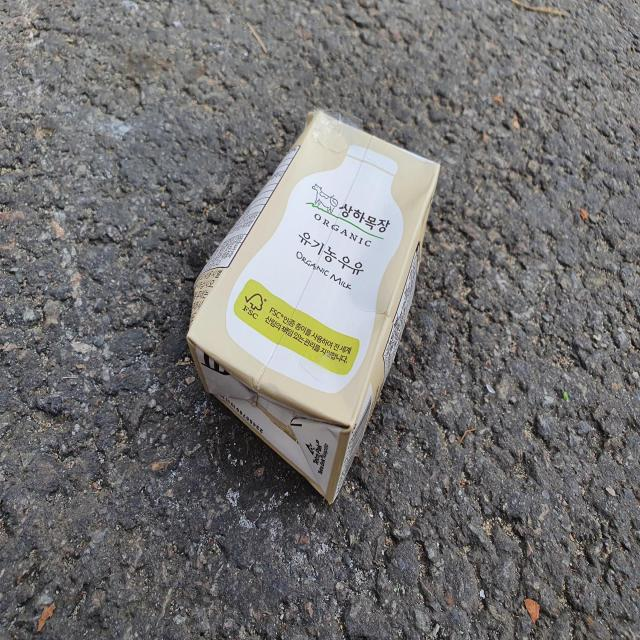paperpack: (187, 109, 440, 503)
